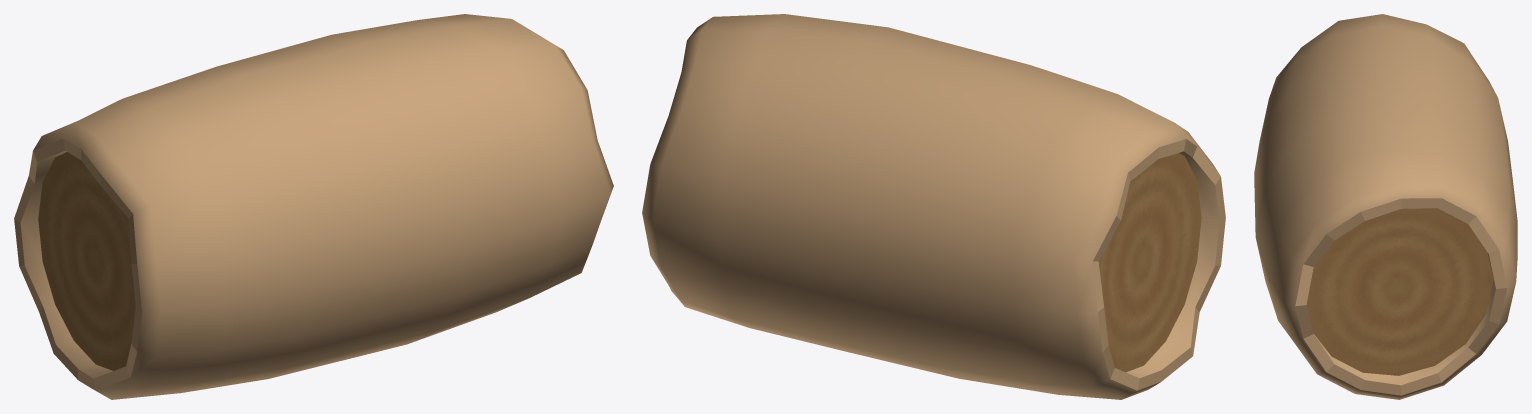
The model's file is Log_1.fbx.
3 renders of one model, left to right at view 1: azimuth 30°, elevation 25°; view 2: azimuth 150°, elevation 25°; view 3: azimuth 270°, elevation 25°, orthographic. The views are drawn at different scales.
Visible parts, largest first — view 1: Cylinder.074; view 2: Cylinder.074; view 3: Cylinder.074.
Part boxes in pixels (left/top/right/bottom): Cylinder.074: left=14, top=14, right=613, bottom=399; Cylinder.074: left=642, top=14, right=1225, bottom=399; Cylinder.074: left=1254, top=14, right=1517, bottom=399.
Bounding box in the file's own units: 86.88 × 49.55 × 49.17.
